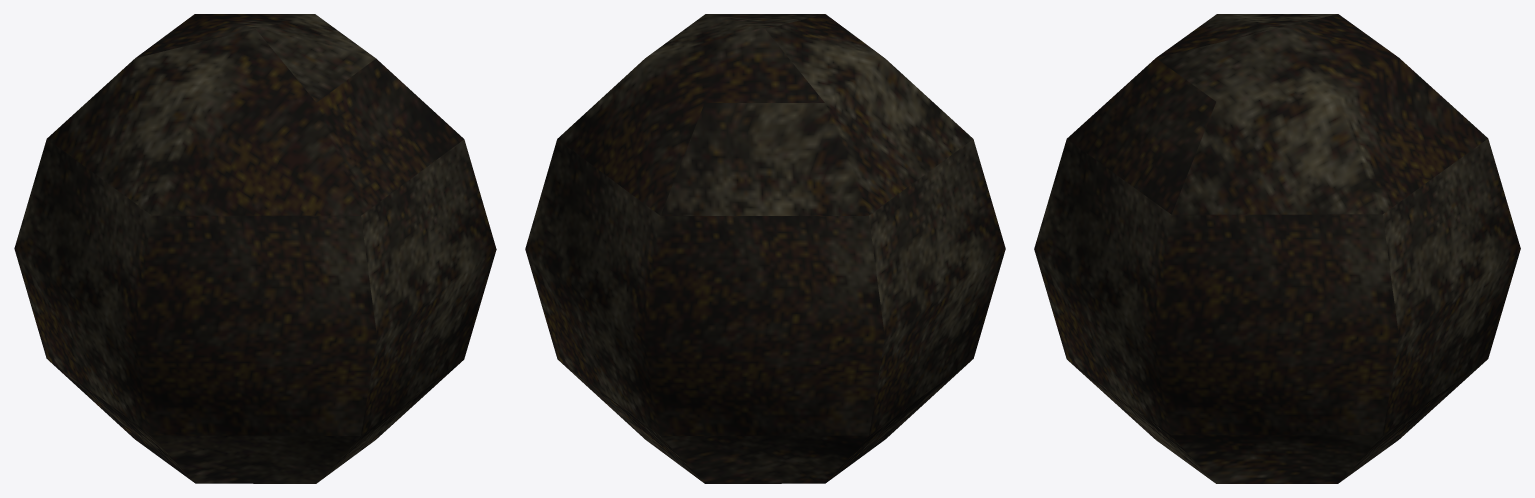
The model's file is SM_EC_HorrorHay_Ball_1.fbx.
3 renders of one model, left to right at view 1: azimuth 30°, elevation 25°; view 2: azimuth 150°, elevation 25°; view 3: azimuth 270°, elevation 25°, orthographic.
Visible parts, largest first — view 1: SM_EC_HorrorHay_Ball_1; view 2: SM_EC_HorrorHay_Ball_1; view 3: SM_EC_HorrorHay_Ball_1.
Part boxes in pixels (box(x1,y1,x2,y2)): SM_EC_HorrorHay_Ball_1: box(14, 14, 496, 483); SM_EC_HorrorHay_Ball_1: box(525, 14, 1005, 483); SM_EC_HorrorHay_Ball_1: box(1034, 14, 1520, 483).
Bounding box in the file's own units: 2.06 × 2.41 × 2.41.
